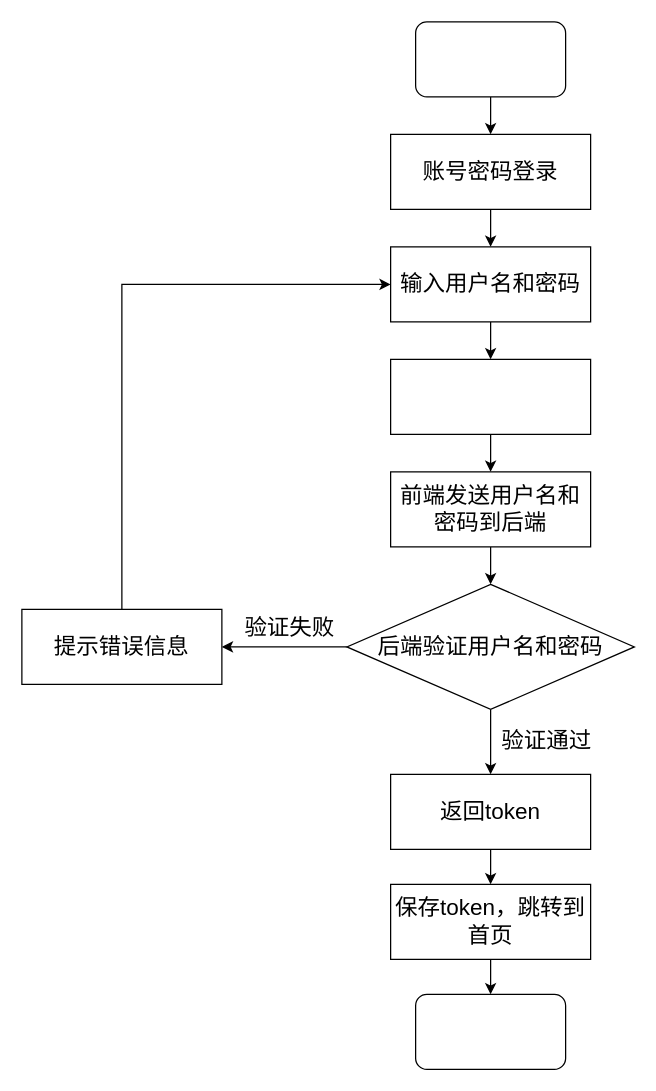
Some shapes in this 656 by 1091 pixel diagram are drawn without their labels. The shapes that lost their labels are listed below. From the top down, each one's centre as x and y in pixels, then its label:
the point at 490,59: 开始
the point at 490,396: 点击登录按钮
the point at 490,1031: 结束
